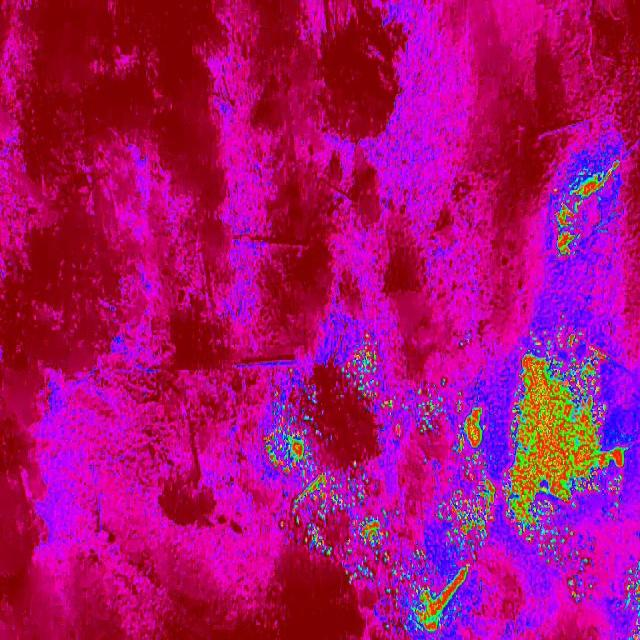fire: (500, 326, 640, 546), (288, 474, 392, 574), (544, 145, 622, 266), (376, 546, 478, 636), (258, 382, 328, 483), (434, 453, 500, 547), (402, 382, 469, 448), (343, 339, 395, 412), (542, 547, 598, 601), (449, 408, 496, 453), (624, 552, 640, 640)
